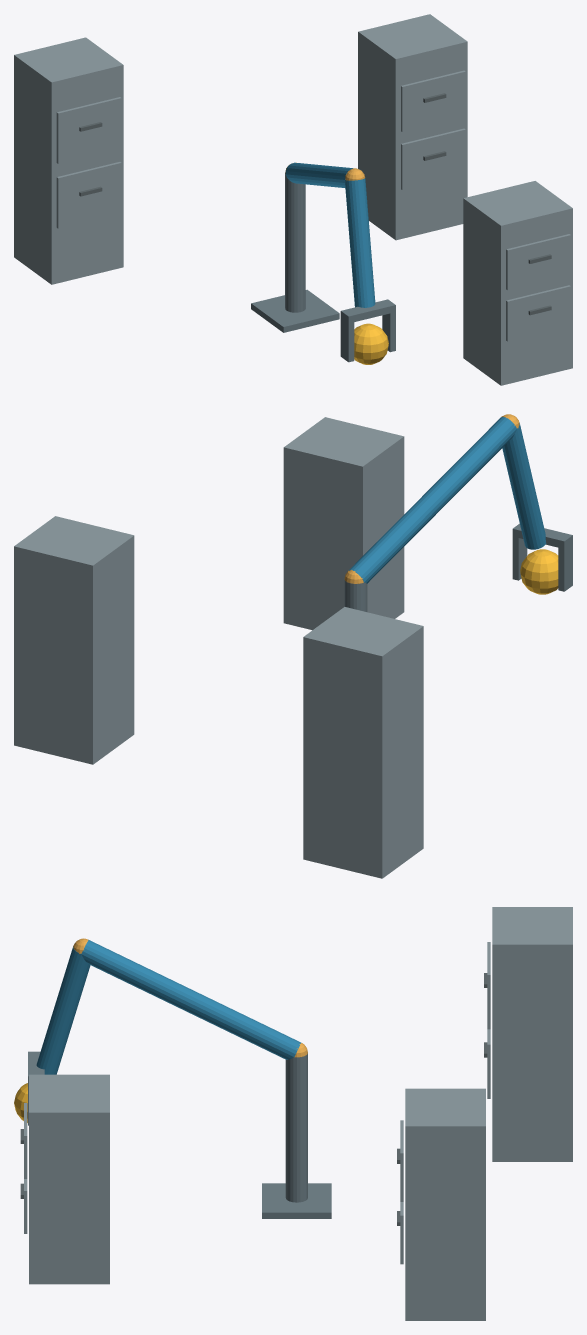
The picture shows the model from 3 angles, top to bottom: view 1: azimuth 30°, elevation 25°; view 2: azimuth 150°, elevation 25°; view 3: azimuth 270°, elevation 25°; orthographic projection. The views are drawn at different scales.
Parts seen in each view (by area): view 1: cabinet_3 body, cabinet_2 body, cabinet_1 body, cabinet_3 drawer front, cabinet_3 drawer front.001, cabinet_2 drawer front.001, cabinet_2 drawer front, moving link 2, fixed post, cabinet_1 drawer front, cabinet_1 drawer front.001, pedestal (+4 smaller); view 2: cabinet_3 body, cabinet_2 body, cabinet_1 body, moving link 1, moving link 2, ball ball_1, fixed post, gripper finger -1; view 3: cabinet_3 body, cabinet_2 body, cabinet_1 body, moving link 1, fixed post, moving link 2, pedestal.
Part boxes in pixels (left/top/right/bottom): cabinet_3 body: left=14, top=37, right=123, bottom=284; cabinet_2 body: left=358, top=14, right=467, bottom=240; cabinet_1 body: left=463, top=181, right=572, bottom=385; cabinet_3 drawer front: left=56, top=162, right=121, bottom=228; cabinet_3 drawer front.001: left=56, top=97, right=121, bottom=163; cabinet_2 drawer front.001: left=401, top=70, right=465, bottom=132; cabinet_2 drawer front: left=401, top=128, right=465, bottom=190; moving link 2: left=345, top=178, right=375, bottom=307; fixed post: left=285, top=173, right=305, bottom=312; cabinet_1 drawer front: left=506, top=285, right=570, bottom=341; cabinet_1 drawer front.001: left=506, top=234, right=570, bottom=290; pedestal: left=251, top=289, right=339, bottom=332; cabinet_3 body: left=303, top=607, right=423, bottom=878; cabinet_2 body: left=14, top=516, right=134, bottom=764; cabinet_1 body: left=283, top=417, right=404, bottom=630; moving link 1: left=349, top=416, right=516, bottom=583; moving link 2: left=502, top=422, right=546, bottom=549; ball ball_1: left=520, top=549, right=558, bottom=594; fixed post: left=344, top=580, right=367, bottom=611; gripper finger -1: left=558, top=543, right=572, bottom=591; cabinet_3 body: left=492, top=907, right=572, bottom=1161; cabinet_2 body: left=405, top=1088, right=485, bottom=1320; cabinet_1 body: left=29, top=1074, right=109, bottom=1284; moving link 1: left=81, top=939, right=301, bottom=1059; fixed post: left=285, top=1053, right=307, bottom=1202; moving link 2: left=36, top=946, right=90, bottom=1074; pedestal: left=262, top=1183, right=331, bottom=1218.
Bounding box in the file's own units: 1.67 × 0.966 × 2.01.
